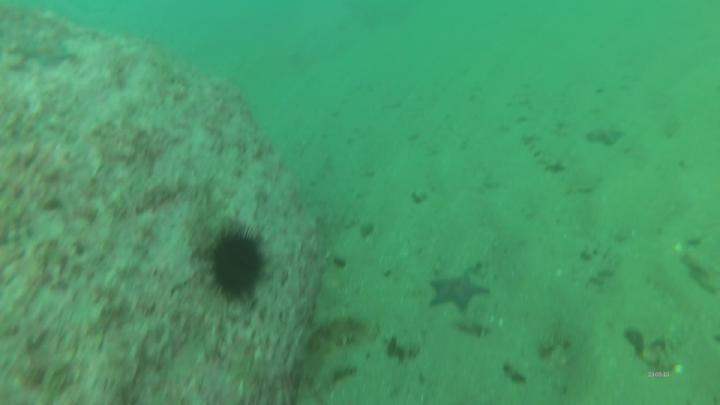echinus: (209, 226, 270, 305)
holothurian: (300, 311, 373, 357), (523, 132, 566, 174)
starfish: (427, 270, 489, 313)
